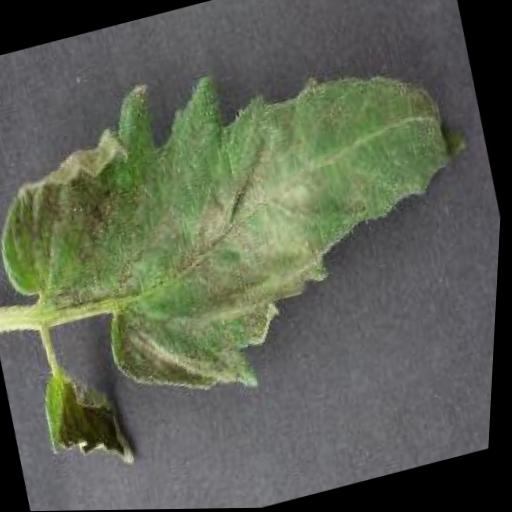Late Blight: (0, 6, 512, 441), (36, 360, 147, 487)
